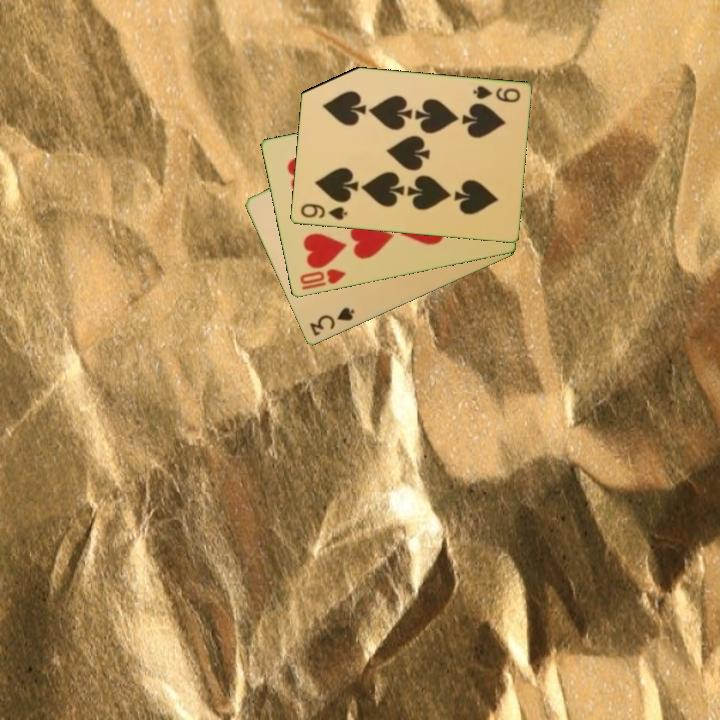10h: (296, 265, 349, 293)
3s: (306, 304, 357, 339)
9s: (469, 82, 523, 106), (297, 200, 350, 223)
